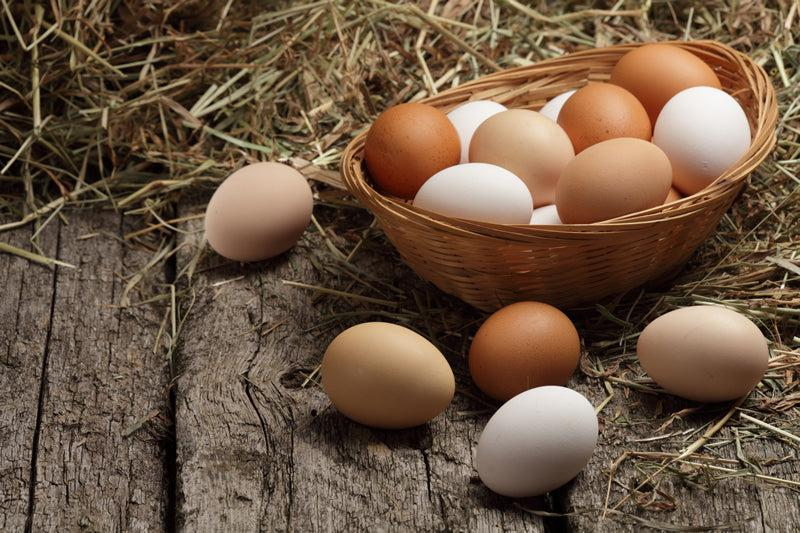egg: (307, 313, 456, 427), (476, 380, 607, 499), (632, 300, 768, 410), (196, 154, 324, 270), (468, 300, 582, 401), (560, 136, 673, 226), (472, 110, 572, 209), (370, 102, 459, 206), (658, 89, 748, 190), (616, 39, 724, 122), (413, 163, 534, 230), (562, 79, 654, 140)
